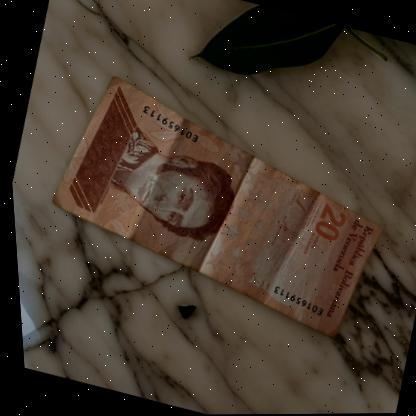twenty-front-vef: (30, 65, 412, 348)
